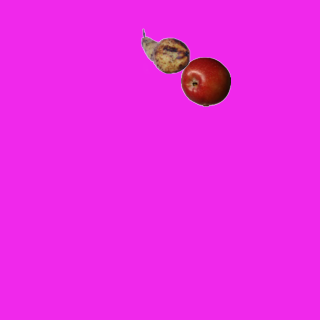Apple Braeburn: (180, 56, 230, 106)
Pear Abate: (140, 26, 190, 76)
